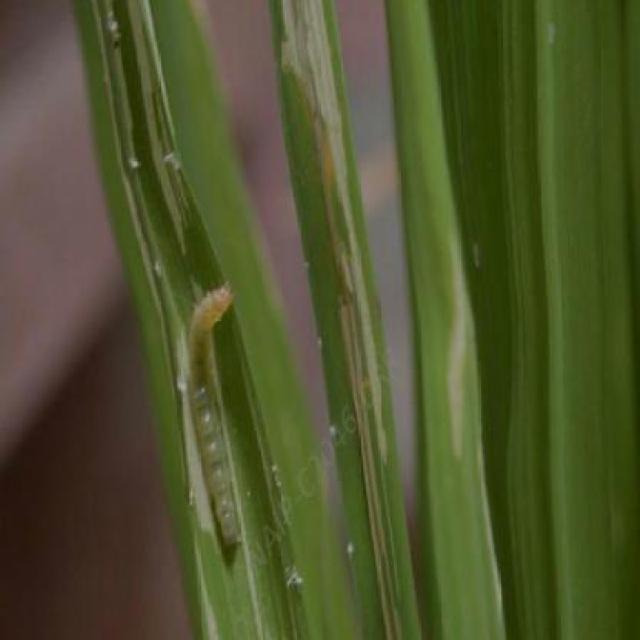leaf-folder: (167, 250, 270, 562)
